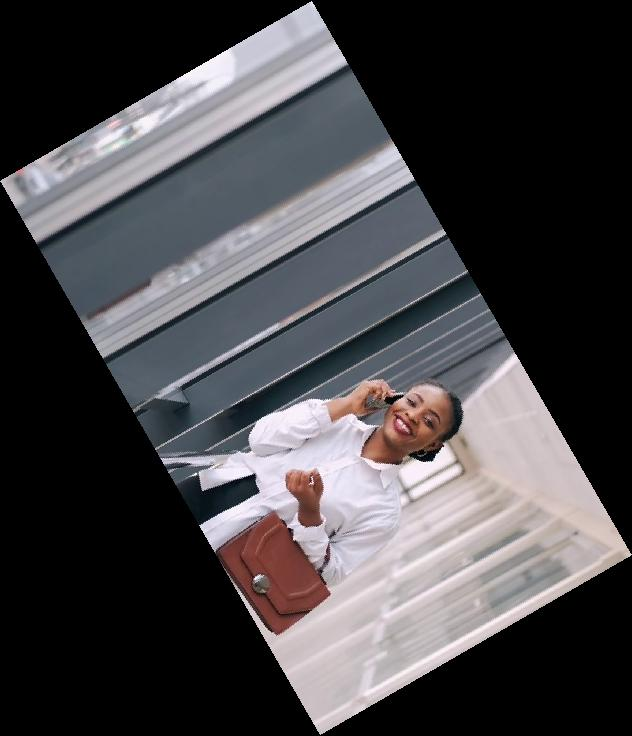phone: (378, 386, 406, 405)
